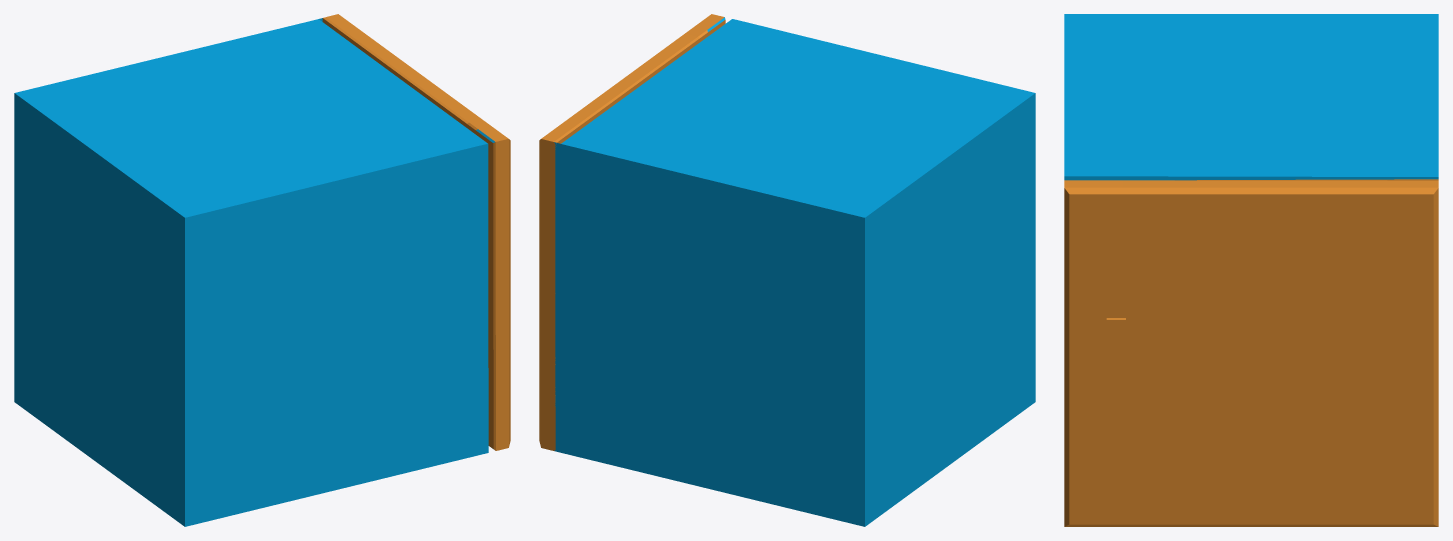
Rendered from cabinet.fbx.
3 views of the same model, side by side, from view 1: azimuth 30°, elevation 25°; view 2: azimuth 150°, elevation 25°; view 3: azimuth 270°, elevation 25° (orthographic). The views are drawn at different scales.
Visible parts, largest first — view 1: Cube; view 2: Cube; view 3: Cube.
Part boxes in pixels (bbox=[...]): Cube: bbox=[14, 14, 510, 526]; Cube: bbox=[539, 14, 1035, 526]; Cube: bbox=[1064, 14, 1438, 526].
Bounding box in the file's own units: 224 × 200 × 200.
